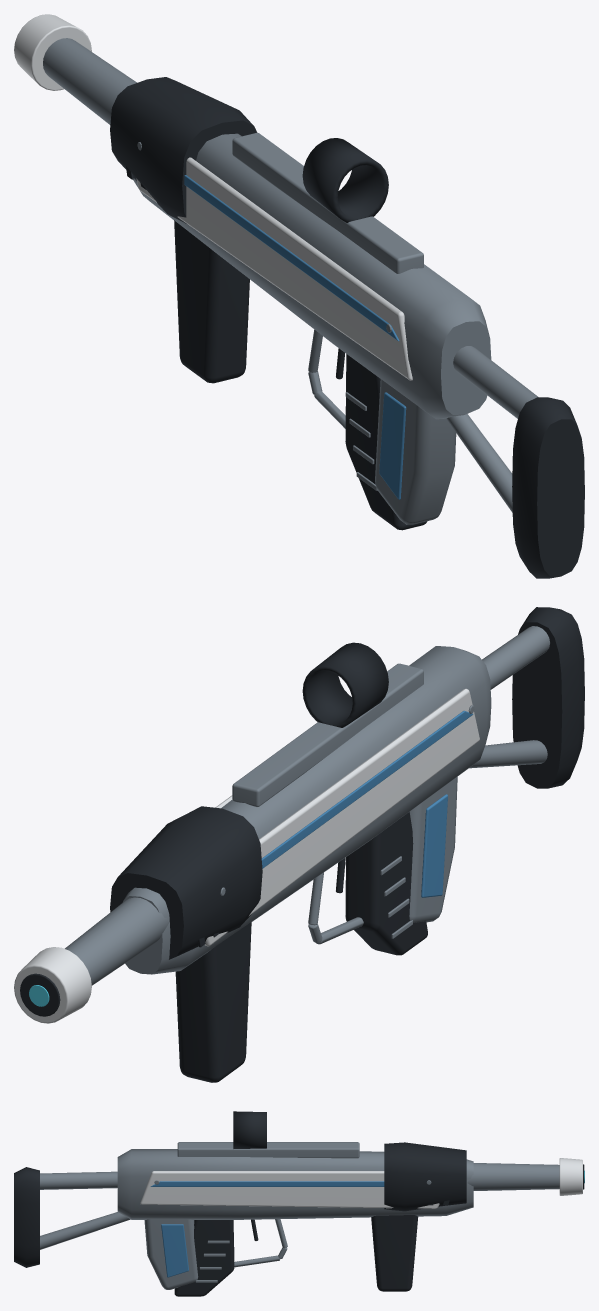
The model's file is blaster-g-mk4.glb.
3 renders of one model, top to bottom at view 1: azimuth 30°, elevation 25°; view 2: azimuth 150°, elevation 25°; view 3: azimuth 270°, elevation 25°, orthographic. The views are drawn at different scales.
Visible parts, largest first — view 1: Pink War IV / bloom; view 2: Pink War IV / bloom; view 3: Pink War IV / bloom.
Part boxes in pixels (<box>): Pink War IV / bloom: <box>14,14,584,578</box>; Pink War IV / bloom: <box>14,607,584,1082</box>; Pink War IV / bloom: <box>14,1111,584,1296</box>.
Bounding box in the file's own units: 0.084 × 0.29 × 0.831.
